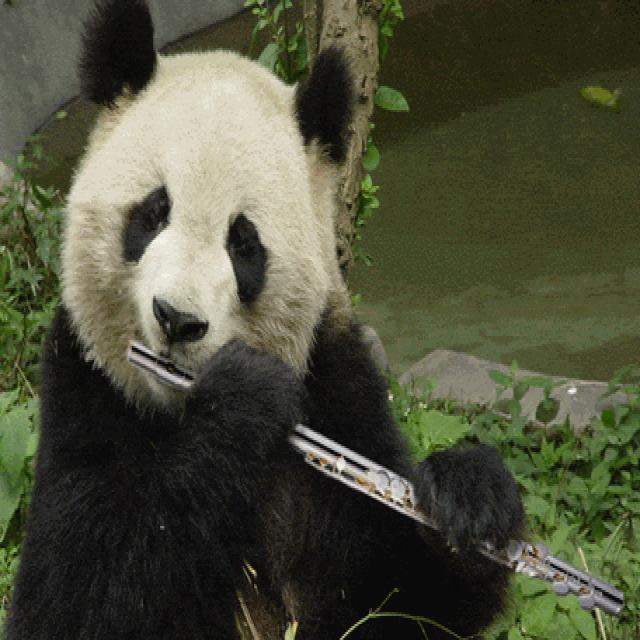panda: (3, 0, 529, 640)
